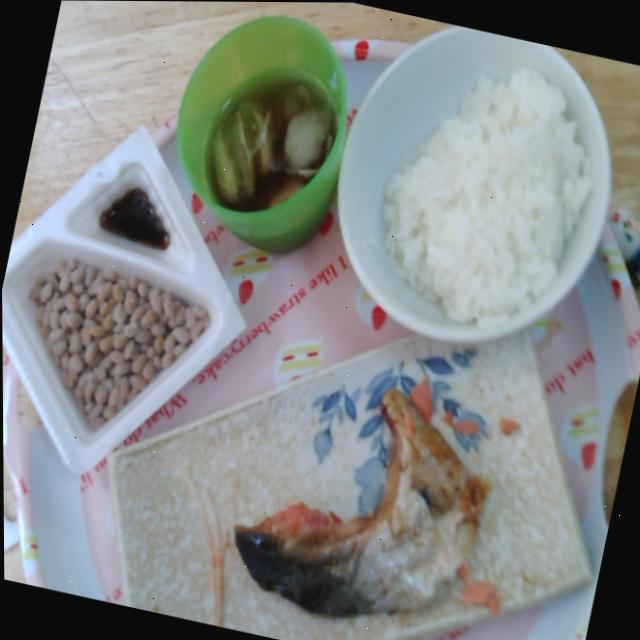熟制海鲜: (66, 234, 640, 640)
米饭主食: (299, 4, 640, 382)
